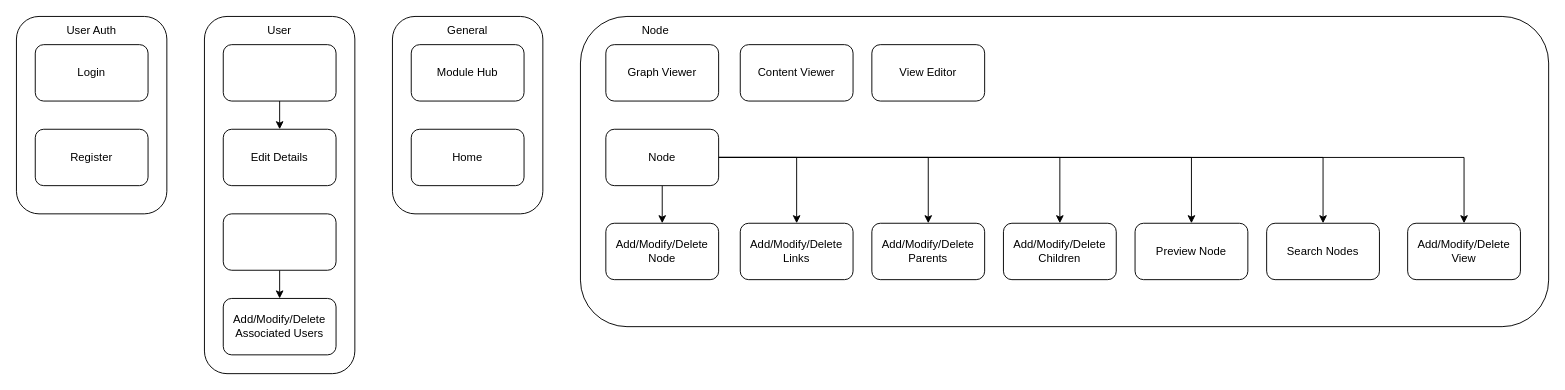
Some shapes in this 1565 by 390 pixel diagram are drawn without their labels. The box of each missing label's shape, as (x1, y1, x2, y2) in pixels:
Associated Users: (222, 213, 336, 270)
Details: (222, 44, 336, 101)
